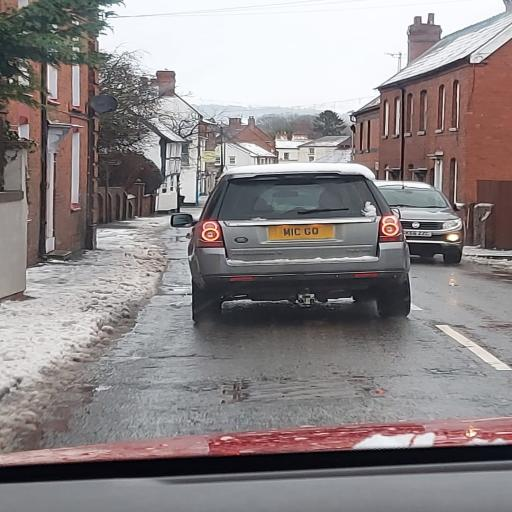numberplates: (268, 225, 334, 240), (405, 231, 432, 237)
